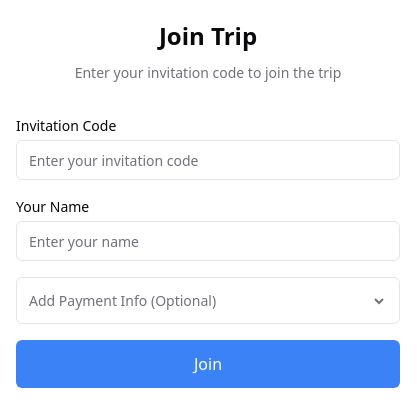
Scenario: JoinPage › form validation › should show error when name is empty
The width and height of the screenshot is (417, 416).
Type "abc123" into the field labelled "Invitation Code" at (208, 160), box [16, 140, 400, 180]
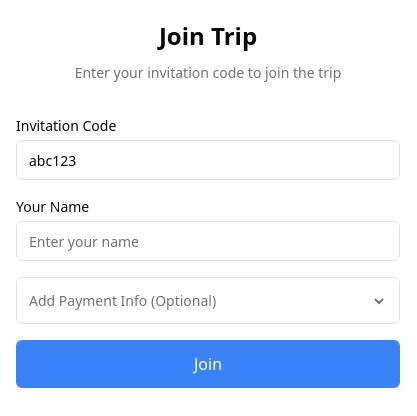
Click the button "Join" at (208, 364), box [16, 340, 400, 388]
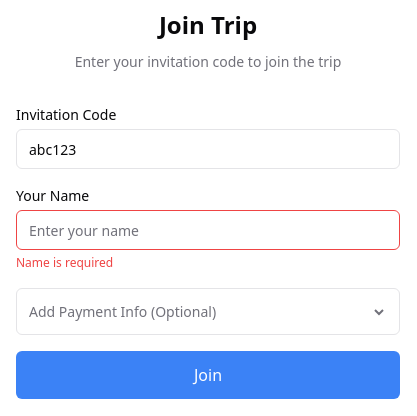
Expected: the text "Name is required" is shown, [16, 254, 113, 271]
